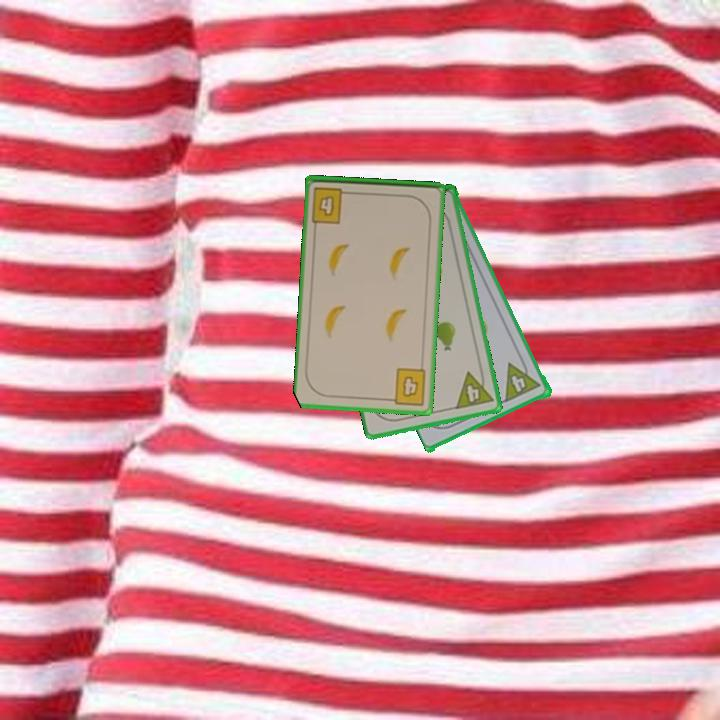4b: (308, 183, 354, 226), (384, 365, 429, 408)
4p: (501, 355, 544, 405), (452, 366, 496, 412)
